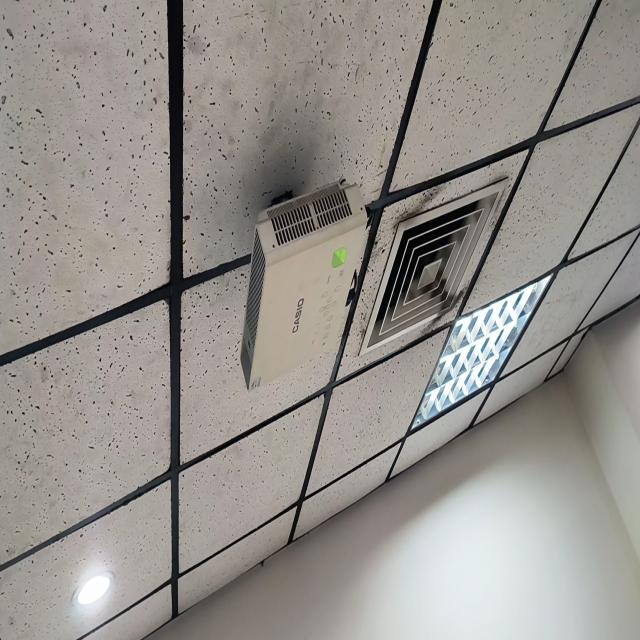Light: (412, 276, 553, 428), (79, 573, 111, 599)
Projector: (240, 180, 367, 392)
